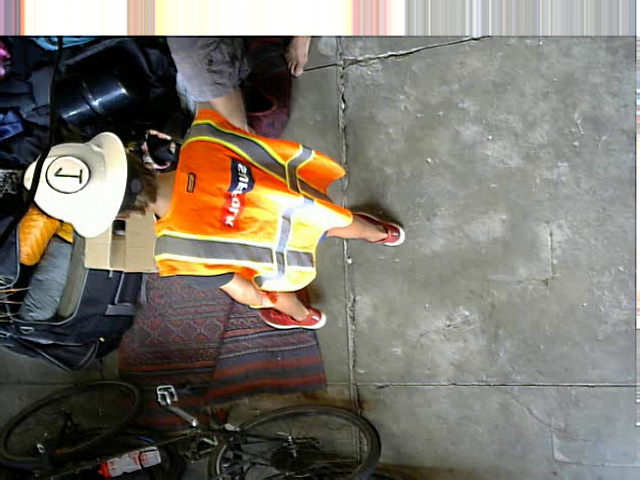one: (44, 156, 87, 192)
